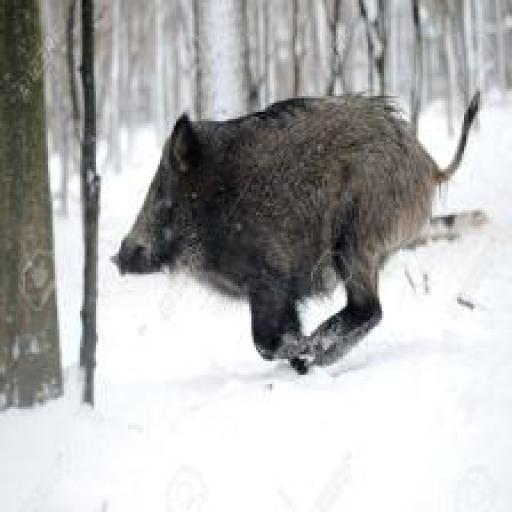Pig: (110, 89, 481, 374)
